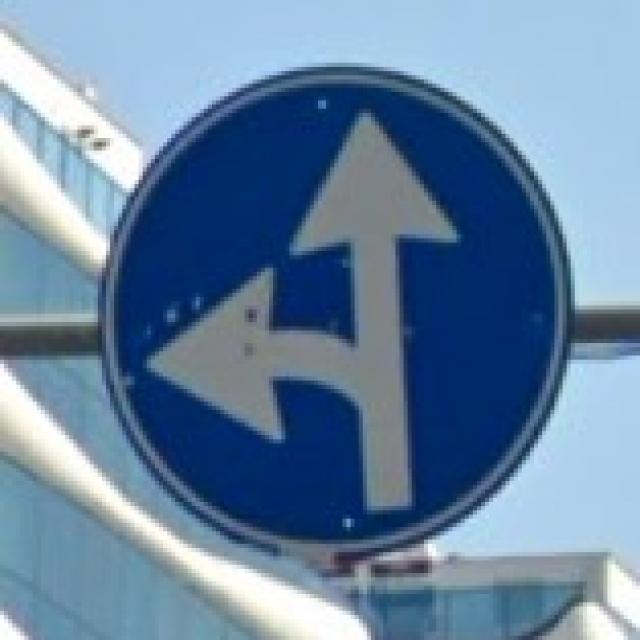Straight or Left: (103, 68, 572, 557)
